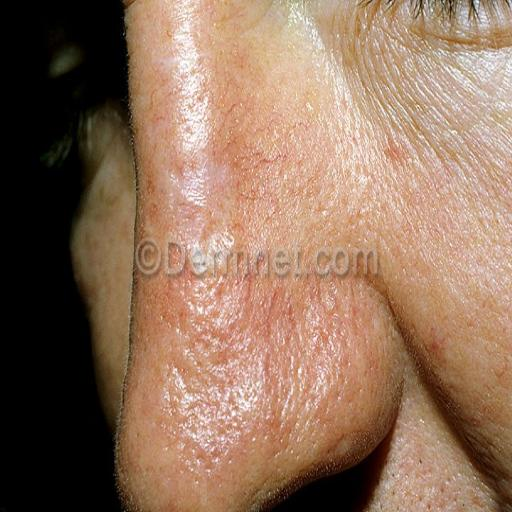Skin_Lesion: (171, 307, 267, 387), (285, 314, 351, 408), (175, 404, 231, 488), (192, 228, 249, 290)
